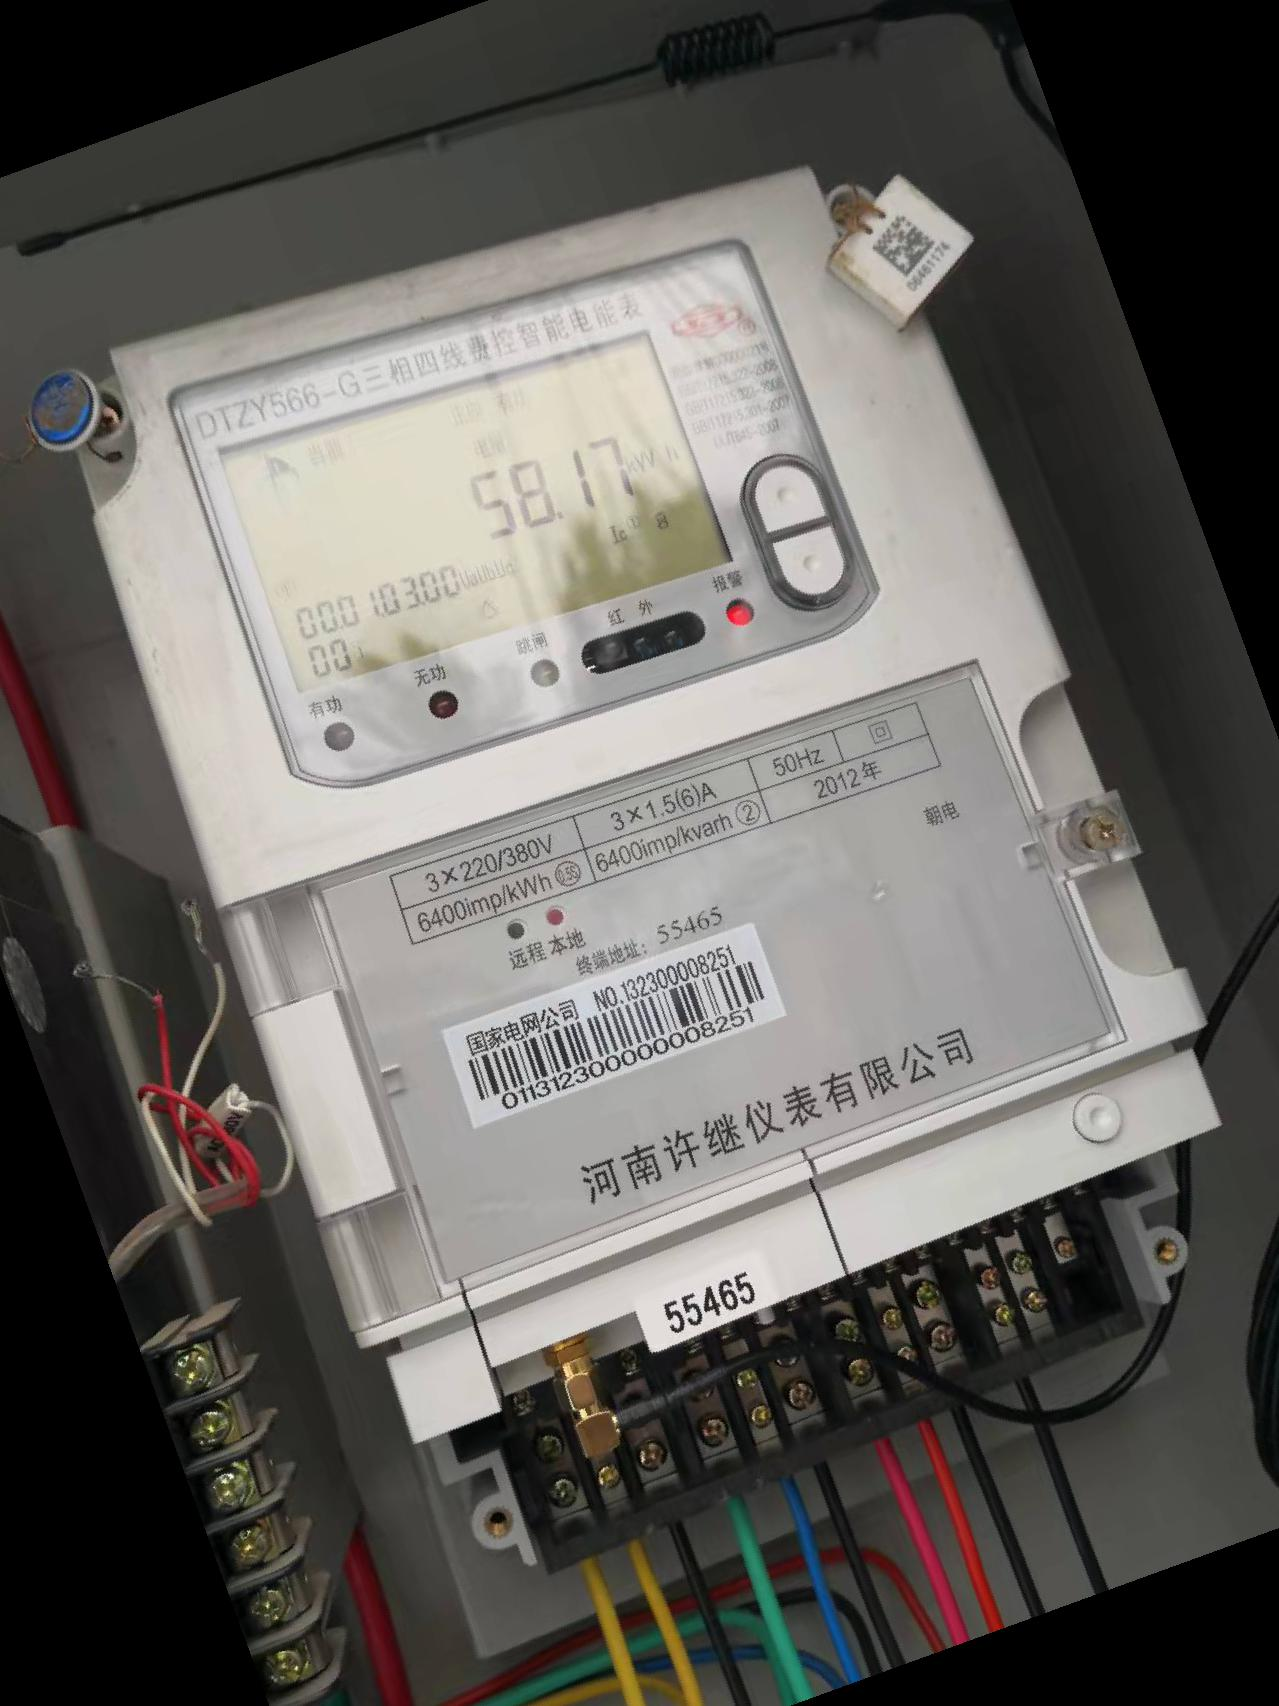digital: (86, 171, 1206, 1354)
